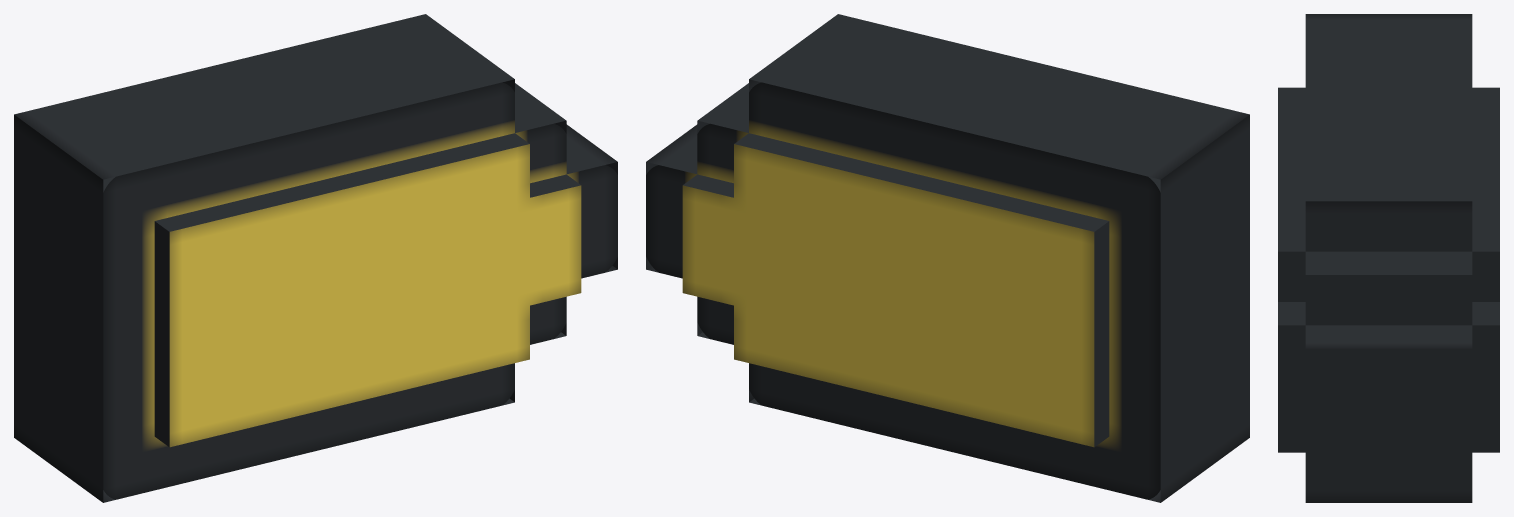
File: Bullet.fbx
The picture shows the model from 3 angles, left to right: view 1: azimuth 30°, elevation 25°; view 2: azimuth 150°, elevation 25°; view 3: azimuth 270°, elevation 25°; orthographic projection. The views are drawn at different scales.
Parts seen in each view (by area): view 1: generated; view 2: generated; view 3: generated.
Boxes of the visible parts, <box> form: generated: <box>14,14,617,502</box>; generated: <box>646,14,1249,502</box>; generated: <box>1278,14,1499,502</box>.
Size of the model in its own units: 100 by 60 by 40.
